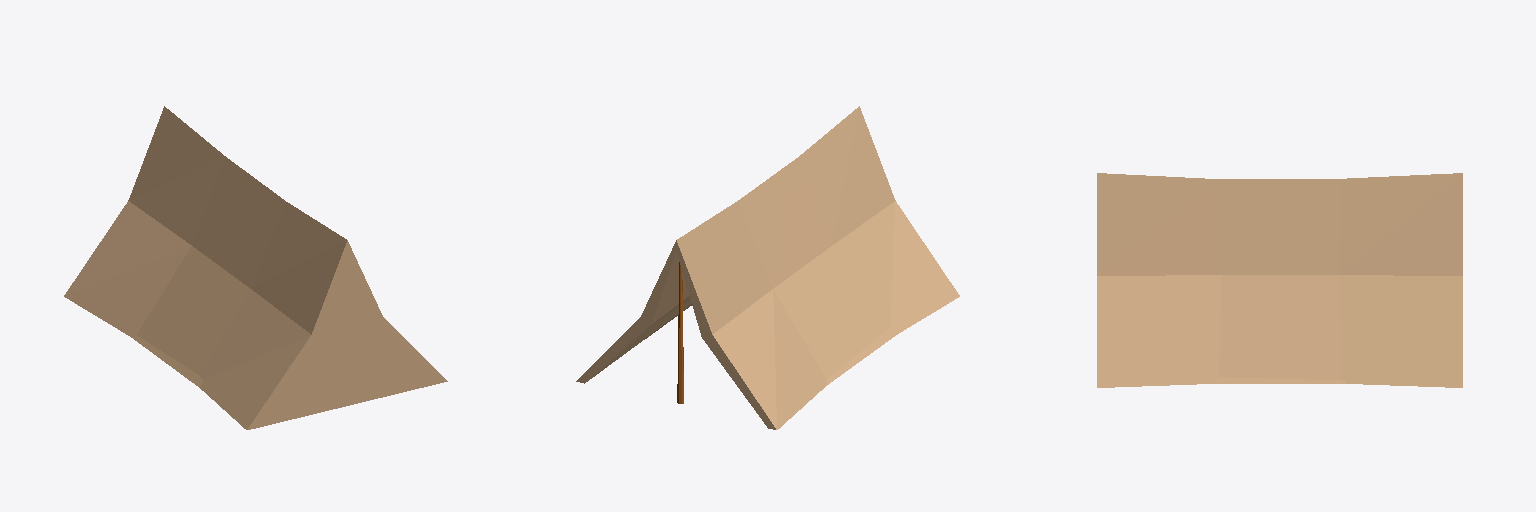
File: tent.obj
3 renders of one model, left to right at view 1: azimuth 30°, elevation 25°; view 2: azimuth 150°, elevation 25°; view 3: azimuth 270°, elevation 25°, orthographic.
Visible parts, largest first — view 1: Tent; view 2: Tent; view 3: Tent.
Boxes of the visible parts, x1=… form: Tent: x1=64, y1=106, x2=447, y2=429; Tent: x1=576, y1=106, x2=959, y2=429; Tent: x1=1097, y1=173, x2=1462, y2=387.
Bounding box in the file's own units: 1.91 × 1.5 × 3.